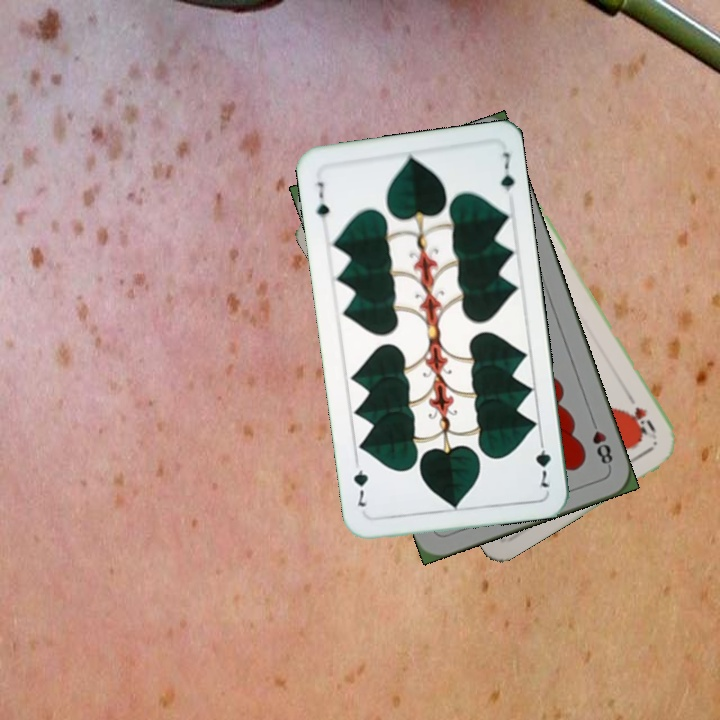G7: (531, 433, 554, 491), (312, 178, 332, 229)
H8: (586, 413, 616, 471)
HO: (622, 388, 659, 438)
